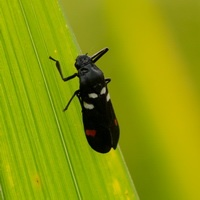insect: (49, 48, 119, 152)
